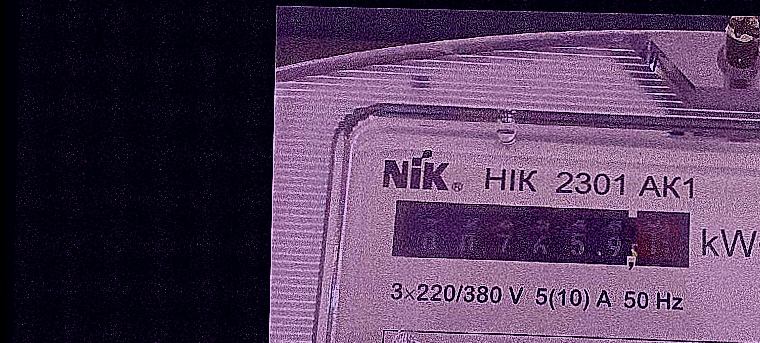0: (458, 228, 477, 254), (420, 226, 438, 253)
1: (647, 225, 661, 258)
5: (567, 229, 589, 256)
6: (531, 231, 550, 255)
7: (494, 230, 514, 255)
9: (605, 231, 623, 259)
screen: (382, 186, 702, 284)
